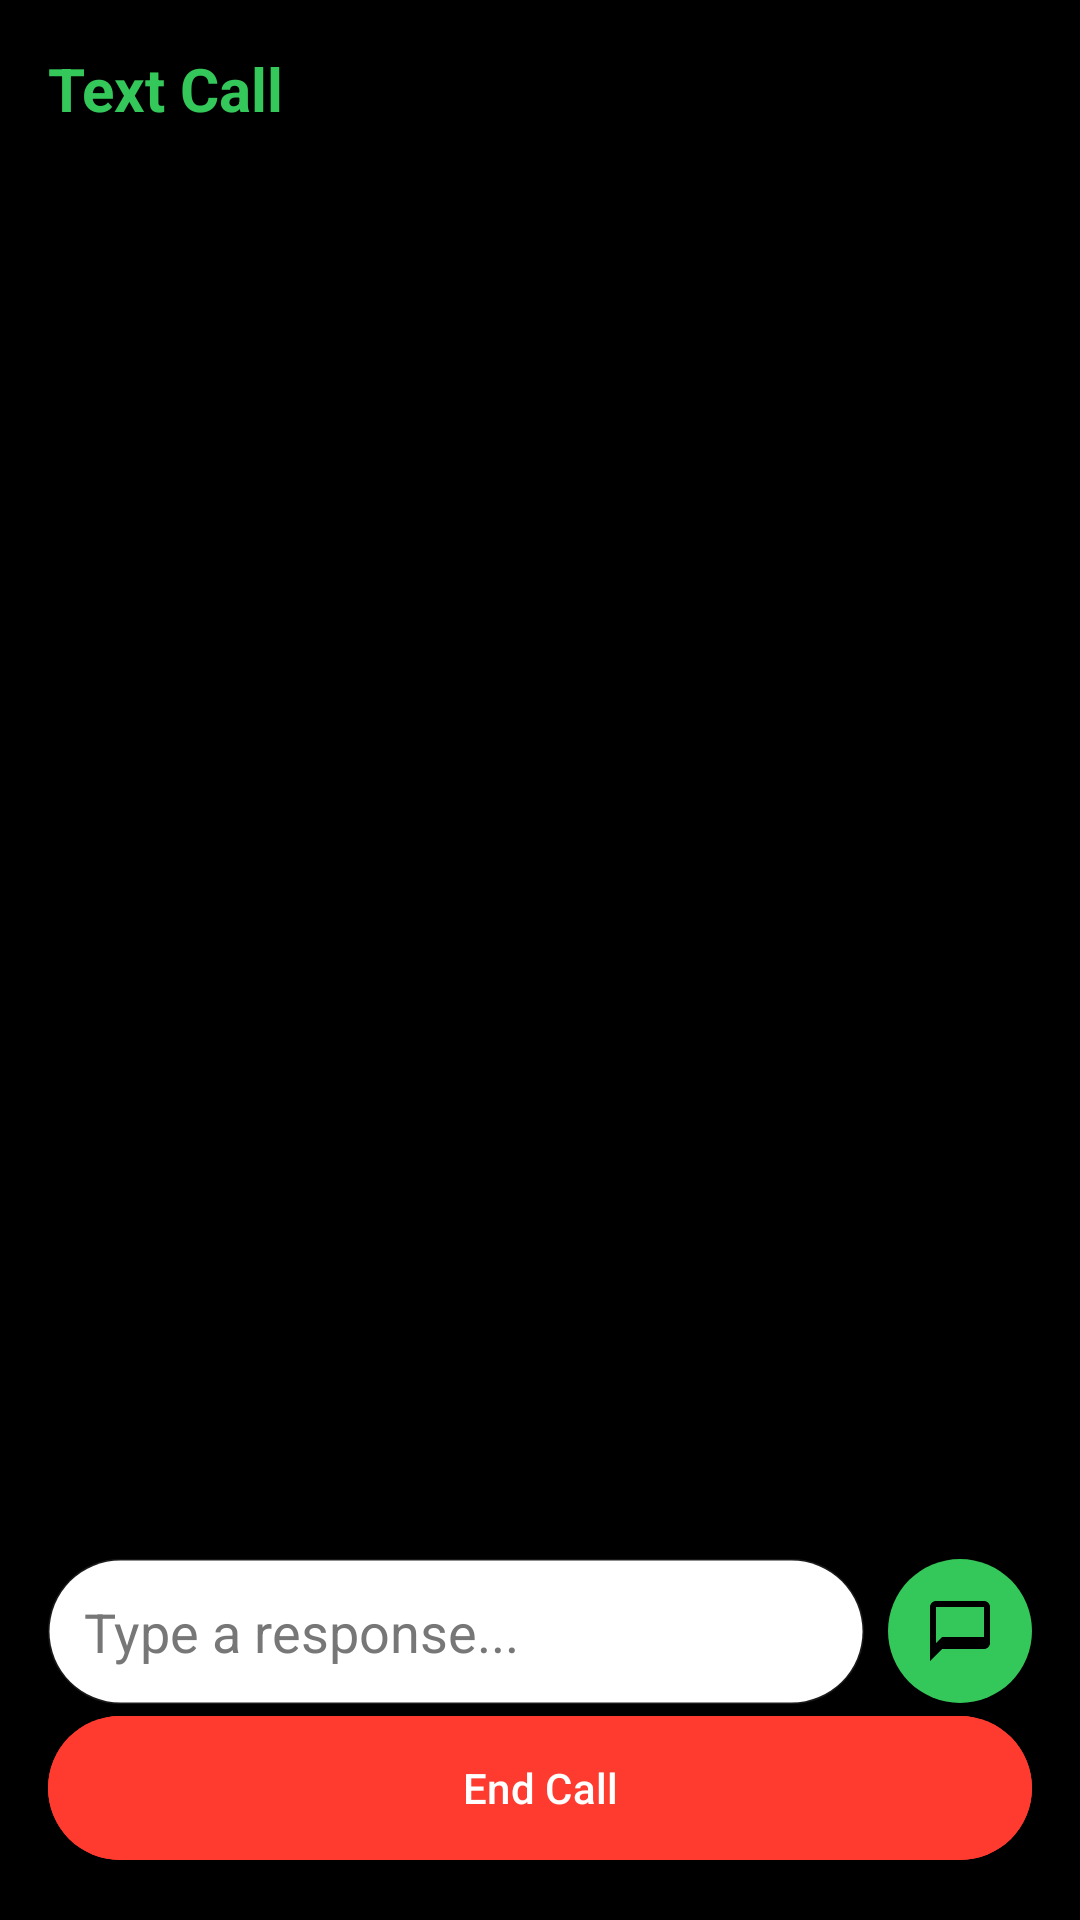

Named icons in this screenshot (1080×1920) and their bounding boxes, (x1,y1,x2,y2):
message: (888,1559,1032,1703)
